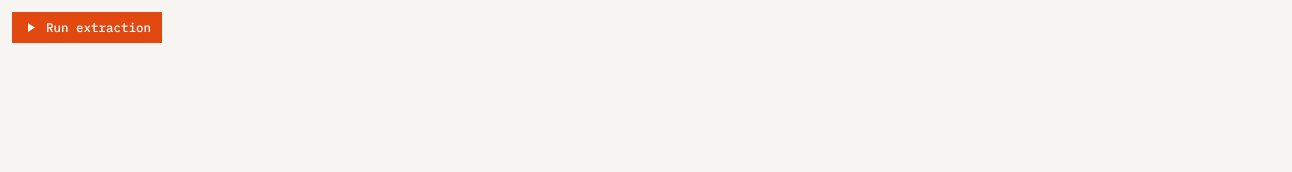
Test case: failed blocks, by what a re-run would actually do › does not invite a re-run when the failure is terminal
Step 1. Click the button "Run extraction" → click(87, 27), box [12, 12, 162, 43]
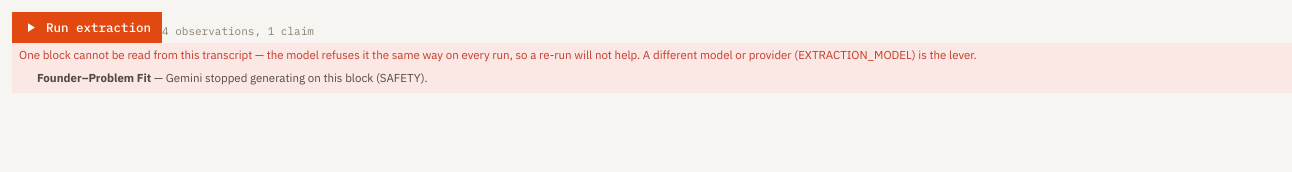
Result: the text "Founder–Problem Fit" is shown at [37, 70, 151, 85]
Result: the list item "SAFETY" is shown at [166, 70, 428, 85]
Result: the text "cannot be read from this transcript" is shown at [74, 47, 977, 62]
